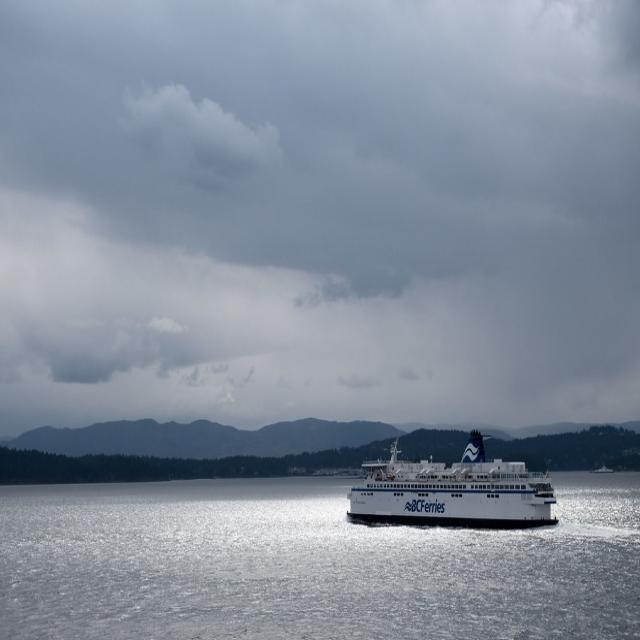passenger ship: (350, 431, 565, 540)
